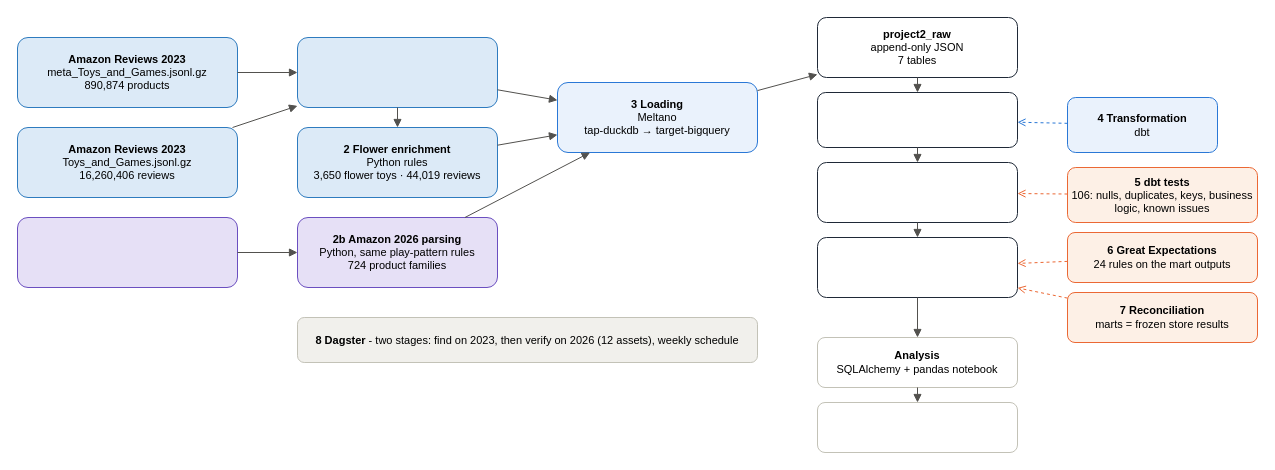
Some shapes in this 1275 by 470 pixel diagram are drawn without their labels. Here are the shapes that lost their labels. From the top down, the centre of each, then its label:
the point at 397,72: 1 Ingestion Python + DuckDB preview · load · verify
the point at 917,120: project2_staging typed views · newest load
the point at 917,192: project2_analytics star schema: 3 facts, 6 dimensions, 1 bridge
the point at 127,252: Amazon 2026 Keepa API snapshot, 7 Oct 2026 paid API, saved responses
the point at 917,267: project2_marts pattern trend · themes · needs · customers · 2026 check
the point at 917,427: Streamlit app (Cloud Run) what to sell, why, what to fix
